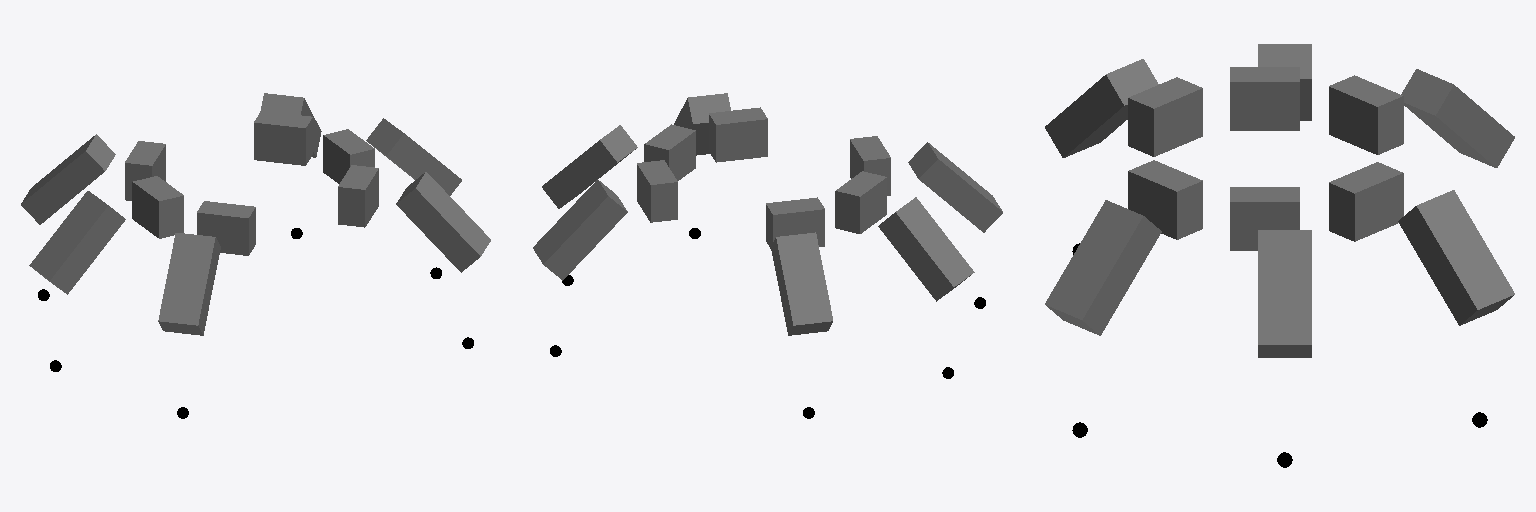
--- What the picture shows (computed from the rendered views, not written in the file) ---
3 views of the same robot in one strip: view 1: azimuth 30°, elevation 25°; view 2: azimuth 150°, elevation 25°; view 3: azimuth 270°, elevation 25° (orthographic).
Robot: hexapod — 38 links, 37 joints (18 revolute, 19 fixed); root link dummy; default pose: all joints at 0.
Visible links, largest first — view 1: servomotor_6, servomotor_12, servomotor_15, servomotor_13, servomotor_16, servomotor_17, servomotor_1, servomotor_14, servomotor_0, servomotor_2, servomotor_10, servomotor_3 (+5 smaller); view 2: servomotor_0, servomotor_12, servomotor_13, servomotor_10, servomotor_7, servomotor_11, servomotor_14, servomotor_6, servomotor_9, servomotor_8, servomotor_16, servomotor_3 (+5 smaller); view 3: servomotor_15, servomotor_9, servomotor_6, servomotor_12, servomotor_0, servomotor_1, servomotor_7, servomotor_8, servomotor_5, servomotor_2, servomotor_3, servomotor_10 (+5 smaller).
Boxes of the visible links, x1,y1,x2,y2 form: servomotor_6: (254, 111, 312, 165); servomotor_12: (132, 176, 183, 238); servomotor_15: (197, 201, 255, 255); servomotor_13: (56, 191, 125, 261); servomotor_16: (166, 233, 220, 295); servomotor_17: (158, 271, 210, 335); servomotor_1: (396, 172, 457, 242); servomotor_14: (29, 223, 98, 294); servomotor_0: (338, 165, 378, 227); servomotor_2: (425, 201, 490, 272); servomotor_10: (56, 134, 115, 201); servomotor_3: (323, 129, 374, 183); servomotor_0: (709, 107, 767, 162); servomotor_12: (835, 171, 886, 233); servomotor_13: (878, 197, 946, 267); servomotor_10: (771, 232, 825, 295); servomotor_7: (568, 179, 627, 250); servomotor_11: (781, 272, 832, 335); servomotor_14: (908, 230, 974, 301); servomotor_6: (637, 160, 677, 222); servomotor_9: (766, 197, 824, 248); servomotor_8: (533, 209, 597, 280); servomotor_16: (908, 142, 974, 209); servomotor_3: (644, 124, 695, 180); servomotor_15: (1128, 77, 1202, 156); servomotor_9: (1329, 75, 1403, 154); servomotor_6: (1329, 162, 1403, 241); servomotor_12: (1230, 67, 1299, 130); servomotor_0: (1128, 160, 1202, 239); servomotor_1: (1071, 200, 1161, 290); servomotor_7: (1398, 190, 1487, 279); servomotor_8: (1426, 238, 1514, 325); servomotor_5: (1258, 280, 1311, 357); servomotor_2: (1045, 259, 1126, 335); servomotor_3: (1230, 187, 1299, 250); servomotor_10: (1401, 69, 1488, 144).
Bounding box of the posed robot: 0.3985 × 0.3063 × 0.1529 m (x, y, z).
0 mesh visuals loaded from 3 distinct referenced files (none loaded); not drawn: 13 (reference not matched to a file when rendering).

robot.urdf — hexapod:
<?xml version="1.0" ?>

<robot name="hexapod">

  <link name="dummy">
  </link>
  <link name="base_link">
    <!-- We count all component within the box as the box
    (NanoPi, pcb, connectors included) -->
    <collision>
      <origin xyz="0 0 0.203" rpy="0 0 0" />
      <geometry>
        <!-- Putting here an octogone might be a nice optimization -->
        <mesh filename="package://hexapod_urdf/meshes/box.stl" scale="0.001 0.001 0.001" />
      </geometry>
    </collision>
    <visual>
      <origin xyz="0 0 0.203" rpy="0 0 0" />
      <geometry>
        <mesh filename="package://hexapod_urdf/meshes/box.stl" scale="0.001 0.001 0.001" />
      </geometry>
      <material name="Green">
        <color rgba="0.0 1.0 0.0 1.0"/>
      </material>
    </visual>
    <inertial>
      <origin xyz="0 0 0.203" rpy="0 0 0" />
      <mass value="0.667" />
      <!-- Let's consider the core of the robot homogeneous -->
      <inertia ixx="0.0011546458242062" ixy="-0.0000000000020962" ixz="-0.0000000000002841" iyy="0.0011546459440935" iyz="-0.0000000000000000" izz="0.0021742915988320" />
    </inertial>
  </link>
  <joint name="dummy_joint" type="fixed">
     <parent link="dummy"/>
     <child link="base_link"/>
  </joint>
  
  <!-- Leg 0 -->
  <joint name="fixed_box_servomotor_0" type="fixed">
    <origin xyz="0.06521292289492935 -0.06521292289492935 0.2041193" rpy="0 0 -0.78539" />
    <parent link="base_link" />
    <child link="servomotor_0" />
  </joint>
  <link name="servomotor_0">
    <collision>
      <origin xyz="0 -0.002 0" rpy="0 0 0" />
      <geometry>
        <box size="0.024 0.0451 0.0347" />
      </geometry>
    </collision>
    <visual>
      <origin xyz="0 -0.002 0" rpy="0 0 0" />
      <geometry>
        <box size="0.024 0.0451 0.0347" />
      </geometry>
      <material name="Grey">
        <color rgba="0.5 0.5 0.5 1.0"/>
      </material>
    </visual>
    <inertial>
      <origin xyz="0 0 0" rpy="0 0 0" />
      <mass value="0.047" />
      <!-- Let's consider the servomotor homogeneous -->
      <inertia ixx="0.000269" ixy="0" ixz="0" iyy="0.00014834" iyz="0" izz="0.0002175" />
    </inertial>
  </link>
  <joint name="servomotor_0_joint" type="revolute">
    <origin xyz="0 0.011 0" rpy="0 0 0" />
    <parent link="servomotor_0" />
    <child link="joint_0" />
    <axis xyz="0 0 1" />
    <dynamics damping="0" friction="0" /> <!-- TODO -->
    <!-- Herkulex : 361.4°/s i.e. 6.308rad/s, 12kg.cm i.e. 1.18Nm -->
    <limit effort="1.18" velocity="6.308" lower="-0.46" upper="0.46" /> <!-- TODO -->
  </joint>
  <link name="joint_0">
    <collision>
      <origin xyz="0.02432 0 0" rpy="0 0 0" />
      <geometry>
        <box size="0.025 0.040 0.040" />
      </geometry>
    </collision>
    <visual>
      <origin xyz="0.02432 0 0" rpy="0 0 0" />
      <geometry>
        <mesh filename="package://hexapod_urdf/meshes/joint.stl" scale="0.001 0.001 0.001" />
      </geometry>
      <material name="Blue">
        <color rgba="0.0 0.0 1.0 1.0"/>
      </material>
    </visual>
    <inertial>
      <origin xyz="0.02432 0 0" rpy="0 0 0" />
      <mass value="0.011" />
      <inertia ixx="0.0000036847327983" ixy="0.0000000282538243" ixz="0.0000000324768551" iyy="0.0000040337912502" iyz="-0.0000000006925946" izz="0.0000040276641002" />
    </inertial>
  </link>
  <joint name="servomotor_1_joint" type="revolute">
    <origin xyz="0.049 0 0" rpy="1.5707963267948966 -0.7853981633974483 0" />
    <parent link="joint_0" />
    <child link="servomotor_1" />
    <axis xyz="0 0 1" />
    <dynamics damping="0" friction="0" /> <!-- TODO -->
    <!-- Herkulex : 361.4°/s i.e. 6.308rad/s, 12kg.cm i.e. 1.18Nm -->
    <limit effort="1.18" velocity="6.308" lower="-1.57" upper="1.57" /> <!-- TODO -->
  </joint>
  <link name="servomotor_1">
    <collision>
      <origin xyz="0 -0.0127 0" rpy="0 0 0" />
      <geometry>
        <box size="0.024 0.0451 0.0347" />
      </geometry>
    </collision>
    <visual>
      <origin xyz="0 -0.0127 0" rpy="0 0 0" />
      <geometry>
        <box size="0.024 0.0451 0.0347" />
      </geometry>
      <material name="Grey">
        <color rgba="0.5 0.5 0.5 1.0"/>
      </material>
    </visual>
    <inertial>
      <origin xyz="0 -0.0107 0" rpy="0 0 0" />
      <mass value="0.047" />
      <!-- Let's consider the servomotor homogeneous -->
      <inertia ixx="0.000269" ixy="0" ixz="0" iyy="0.00014834" iyz="0" izz="0.0002175" />
    </inertial>
  </link>
  <joint name="fixed_servomotor_1_servomotor_2" type="fixed">
    <origin xyz="0 -0.0495 0" rpy="0 0 3.141592653589793" />
    <parent link="servomotor_1" />
    <child link="servomotor_2" />
  </joint>
  <link name="servomotor_2">
    <collision>
      <origin xyz="0 -0.002 0" rpy="0 0 0" />
      <geometry>
        <box size="0.024 0.0451 0.0347" />
      </geometry>
    </collision>
    <visual>
      <origin xyz="0 -0.002 0" rpy="0 0 0" />
      <geometry>
        <box size="0.024 0.0451 0.0347" />
      </geometry>
      <material name="Grey">
        <color rgba="0.5 0.5 0.5 1.0"/>
      </material>
    </visual>
    <inertial>
      <origin xyz="0 0 0" rpy="0 0 0" />
      <mass value="0.047" />
      <!-- Let's consider the servomotor homogeneous -->
      <inertia ixx="0.000269" ixy="0" ixz="0" iyy="0.00014834" iyz="0" izz="0.0002175" />
    </inertial>
  </link>
  <joint name="servomotor_2_joint" type="revolute">
    <origin xyz="0 0.0107 0" rpy="0 0 -0.7853981633974483" />
    <parent link="servomotor_2" />
    <child link="foot_0" />
    <axis xyz="0 0 1" />
    <dynamics damping="0" friction="0" /> <!-- TODO -->
    <!-- Herkulex : 361.4°/s i.e. 6.308rad/s, 12kg.cm i.e. 1.18Nm -->
    <limit effort="1.18" velocity="6.308" lower="-1.57" upper="1.57" /> <!-- TODO -->
  </joint>
  <link name="foot_0">
    <collision>
      <origin xyz="0 0.0406 0" rpy="1.5707963267948966 0 0" />
      <geometry>
        <box size="0.024 0.040 0.08" />
      </geometry>
    </collision>
    <visual>
      <origin xyz="0 0.031 0" rpy="1.5707963267948966 0 0" />
      <geometry>
        <mesh filename="package://hexapod_urdf/meshes/foot.stl" scale="0.001 0.001 0.001" />
      </geometry>
      <material name="Blue">
        <color rgba="0.0 0.0 1.0 1.0"/>
      </material>
    </visual>
    <inertial>
      <origin xyz="0 0.031 0" rpy="1.5707963267948966 0 0" />
      <mass value="0.0105" />
      <inertia ixx="0.0000056249300217" ixy="-0.0000000007514029" ixz="0.0000000005912555" iyy="0.0000045683501941" iyz="0.0000000202704742" izz="0.0000017085021793" />
    </inertial>
  </link>
  <joint name="fixed_foot_0_endcap_0" type="fixed">
    <origin xyz="0 0.088 0" rpy="0 0 0" />
    <parent link="foot_0" />
    <child link="endcap_0" />
  </joint>
  <link name="endcap_0">
    <collision>
      <origin xyz="0 0 0" rpy="0 0 0" />
      <geometry>
        <sphere radius="0.005" />
      </geometry>
    </collision>
    <visual>
      <origin xyz="0 0 0" rpy="0 0 0" />
      <geometry>
        <sphere radius="0.005" />
      </geometry>
      <material name="BlackRubber">
        <color rgba="0.0 0.0 0.0 1.0"/>
      </material>
    </visual>
    <inertial>
      <origin xyz="0 0 0" rpy="0 0 0" />
      <mass value="0.0005" />
      <!-- endcap has a negligeable inertia -->
      <inertia ixx="0.0" ixy="0.0" ixz="0.0" iyy="0.0" iyz="0.0" izz="0.0" />
    </inertial>
    <contact>
      <friction_anchor />
      <lateral_friction value="0.7" />
      <rolling_friction value="0.7" />
      <spinning_friction value="0.1" />
      <stiffness value="10000" />
      <damping value="1000" />
    </contact>
  </link>
  
  <!-- Leg 1 -->
  <joint name="fixed_box_servomotor_3" type="fixed">
    <origin xyz="0.092225 0.0 0.2041193" rpy="0 0 0.0" />
    <parent link="base_link" />
    <child link="servomotor_3" />
  </joint>
  <link name="servomotor_3">
    <collision>
      <origin xyz="0 -0.002 0" rpy="0 0 0" />
      <geometry>
        <box size="0.024 0.0451 0.0347" />
      </geometry>
    </collision>
    <visual>
      <origin xyz="0 -0.002 0" rpy="0 0 0" />
      <geometry>
        <box size="0.024 0.0451 0.0347" />
      </geometry>
      <material name="Grey">
        <color rgba="0.5 0.5 0.5 1.0"/>
      </material>
    </visual>
    <inertial>
      <origin xyz="0 0 0" rpy="0 0 0" />
      <mass value="0.047" />
      <!-- Let's consider the servomotor homogeneous -->
      <inertia ixx="0.000269" ixy="0" ixz="0" iyy="0.00014834" iyz="0" izz="0.0002175" />
    </inertial>
  </link>
  <joint name="servomotor_3_joint" type="revolute">
    <origin xyz="0 0.011 0" rpy="0 0 0" />
    <parent link="servomotor_3" />
    <child link="joint_1" />
    <axis xyz="0 0 1" />
    <dynamics damping="0" friction="0" /> <!-- TODO -->
    <!-- Herkulex : 361.4°/s i.e. 6.308rad/s, 12kg.cm i.e. 1.18Nm -->
    <limit effort="1.18" velocity="6.308" lower="-0.46" upper="0.46" /> <!-- TODO -->
  </joint>
  <link name="joint_1">
    <collision>
      <origin xyz="0.02432 0 0" rpy="0 0 0" />
      <geometry>
        <box size="0.025 0.040 0.040" />
      </geometry>
    </collision>
    <visual>
      <origin xyz="0.02432 0 0" rpy="0 0 0" />
      <geometry>
        <mesh filename="package://hexapod_urdf/meshes/joint.stl" scale="0.001 0.001 0.001" />
      </geometry>
      <material name="Blue">
        <color rgba="0.0 0.0 1.0 1.0"/>
      </material>
    </visual>
    <inertial>
      <origin xyz="0.02432 0 0" rpy="0 0 0" />
      <mass value="0.011" />
      <inertia ixx="0.0000036847327983" ixy="0.0000000282538243" ixz="0.0000000324768551" iyy="0.0000040337912502" iyz="-0.0000000006925946" izz="0.0000040276641002" />
    </inertial>
  </link>
  <joint name="servomotor_4_joint" type="revolute">
    <origin xyz="0.049 0 0" rpy="1.5707963267948966 -0.7853981633974483 0" />
    <parent link="joint_1" />
    <child link="servomotor_4" />
    <axis xyz="0 0 1" />
    <dynamics damping="0" friction="0" /> <!-- TODO -->
    <!-- Herkulex : 361.4°/s i.e. 6.308rad/s, 12kg.cm i.e. 1.18Nm -->
    <limit effort="1.18" velocity="6.308" lower="-1.57" upper="1.57" /> <!-- TODO -->
  </joint>
  <link name="servomotor_4">
    <collision>
      <origin xyz="0 -0.0127 0" rpy="0 0 0" />
      <geometry>
        <box size="0.024 0.0451 0.0347" />
      </geometry>
    </collision>
    <visual>
      <origin xyz="0 -0.0127 0" rpy="0 0 0" />
      <geometry>
        <box size="0.024 0.0451 0.0347" />
      </geometry>
      <material name="Grey">
        <color rgba="0.5 0.5 0.5 1.0"/>
      </material>
    </visual>
    <inertial>
      <origin xyz="0 -0.0107 0" rpy="0 0 0" />
      <mass value="0.047" />
      <!-- Let's consider the servomotor homogeneous -->
      <inertia ixx="0.000269" ixy="0" ixz="0" iyy="0.00014834" iyz="0" izz="0.0002175" />
    </inertial>
  </link>
  <joint name="fixed_servomotor_4_servomotor_5" type="fixed">
    <origin xyz="0 -0.0495 0" rpy="0 0 3.141592653589793" />
    <parent link="servomotor_4" />
    <child link="servomotor_5" />
  </joint>
  <link name="servomotor_5">
    <collision>
      <origin xyz="0 -0.002 0" rpy="0 0 0" />
      <geometry>
        <box size="0.024 0.0451 0.0347" />
      </geometry>
    </collision>
    <visual>
      <origin xyz="0 -0.002 0" rpy="0 0 0" />
      <geometry>
        <box size="0.024 0.0451 0.0347" />
      </geometry>
      <material name="Grey">
        <color rgba="0.5 0.5 0.5 1.0"/>
      </material>
    </visual>
    <inertial>
      <origin xyz="0 0 0" rpy="0 0 0" />
      <mass value="0.047" />
      <!-- Let's consider the servomotor homogeneous -->
      <inertia ixx="0.000269" ixy="0" ixz="0" iyy="0.00014834" iyz="0" izz="0.0002175" />
    </inertial>
  </link>
  <joint name="servomotor_5_joint" type="revolute">
    <origin xyz="0 0.0107 0" rpy="0 0 -0.7853981633974483" />
    <parent link="servomotor_5" />
    <child link="foot_1" />
    <axis xyz="0 0 1" />
    <dynamics damping="0" friction="0" /> <!-- TODO -->
    <!-- Herkulex : 361.4°/s i.e. 6.308rad/s, 12kg.cm i.e. 1.18Nm -->
    <limit effort="1.18" velocity="6.308" lower="-1.57" upper="1.57" /> <!-- TODO -->
  </joint>
  <link name="foot_1">
    <collision>
      <origin xyz="0 0.0406 0" rpy="1.5707963267948966 0 0" />
      <geometry>
        <box size="0.024 0.040 0.08" />
      </geometry>
    </collision>
    <visual>
      <origin xyz="0 0.031 0" rpy="1.5707963267948966 0 0" />
      <geometry>
        <mesh filename="package://hexapod_urdf/meshes/foot.stl" scale="0.001 0.001 0.001" />
      </geometry>
      <material name="Blue">
        <color rgba="0.0 0.0 1.0 1.0"/>
      </material>
    </visual>
    <inertial>
      <origin xyz="0 0.031 0" rpy="1.5707963267948966 0 0" />
      <mass value="0.0105" />
      <inertia ixx="0.0000056249300217" ixy="-0.0000000007514029" ixz="0.0000000005912555" iyy="0.0000045683501941" iyz="0.0000000202704742" izz="0.0000017085021793" />
    </inertial>
  </link>
  <joint name="fixed_foot_1_endcap_1" type="fixed">
    <origin xyz="0 0.088 0" rpy="0 0 0" />
    <parent link="foot_1" />
    <child link="endcap_1" />
  </joint>
  <link name="endcap_1">
    <collision>
      <origin xyz="0 0 0" rpy="0 0 0" />
      <geometry>
        <sphere radius="0.005" />
      </geometry>
    </collision>
    <visual>
      <origin xyz="0 0 0" rpy="0 0 0" />
      <geometry>
        <sphere radius="0.005" />
      </geometry>
      <material name="BlackRubber">
        <color rgba="0.0 0.0 0.0 1.0"/>
      </material>
    </visual>
    <inertial>
      <origin xyz="0 0 0" rpy="0 0 0" />
      <mass value="0.0005" />
      <!-- endcap has a negligeable inertia -->
      <inertia ixx="0.0" ixy="0.0" ixz="0.0" iyy="0.0" iyz="0.0" izz="0.0" />
    </inertial>
    <contact>
      <friction_anchor />
      <lateral_friction value="0.7" />
      <rolling_friction value="0.7" />
      <spinning_friction value="0.1" />
      <stiffness value="10000" />
      <damping value="1000" />
    </contact>
  </link>
  
  <!-- Leg 2 -->
  <joint name="fixed_box_servomotor_6" type="fixed">
    <origin xyz="0.06521292289492935 0.06521292289492935 0.2041193" rpy="0 0 0.78539" />
    <parent link="base_link" />
    <child link="servomotor_6" />
  </joint>
  <link name="servomotor_6">
    <collision>
      <origin xyz="0 -0.002 0" rpy="0 0 0" />
      <geometry>
        <box size="0.024 0.0451 0.0347" />
      </geometry>
    </collision>
    <visual>
      <origin xyz="0 -0.002 0" rpy="0 0 0" />
      <geometry>
        <box size="0.024 0.0451 0.0347" />
      </geometry>
      <material name="Grey">
        <color rgba="0.5 0.5 0.5 1.0"/>
      </material>
    </visual>
    <inertial>
      <origin xyz="0 0 0" rpy="0 0 0" />
      <mass value="0.047" />
      <!-- Let's consider the servomotor homogeneous -->
      <inertia ixx="0.000269" ixy="0" ixz="0" iyy="0.00014834" iyz="0" izz="0.0002175" />
    </inertial>
  </link>
  <joint name="servomotor_6_joint" type="revolute">
    <origin xyz="0 0.011 0" rpy="0 0 0" />
    <parent link="servomotor_6" />
    <child link="joint_2" />
    <axis xyz="0 0 1" />
    <dynamics damping="0" friction="0" /> <!-- TODO -->
    <!-- Herkulex : 361.4°/s i.e. 6.308rad/s, 12kg.cm i.e. 1.18Nm -->
    <limit effort="1.18" velocity="6.308" lower="-0.46" upper="0.46" /> <!-- TODO -->
  </joint>
  <link name="joint_2">
    <collision>
      <origin xyz="0.02432 0 0" rpy="0 0 0" />
      <geometry>
        <box size="0.025 0.040 0.040" />
      </geometry>
    </collision>
    <visual>
      <origin xyz="0.02432 0 0" rpy="0 0 0" />
      <geometry>
        <mesh filename="package://hexapod_urdf/meshes/joint.stl" scale="0.001 0.001 0.001" />
      </geometry>
      <material name="Blue">
        <color rgba="0.0 0.0 1.0 1.0"/>
      </material>
    </visual>
    <inertial>
      <origin xyz="0.02432 0 0" rpy="0 0 0" />
      <mass value="0.011" />
      <inertia ixx="0.0000036847327983" ixy="0.0000000282538243" ixz="0.0000000324768551" iyy="0.0000040337912502" iyz="-0.0000000006925946" izz="0.0000040276641002" />
    </inertial>
  </link>
  <joint name="servomotor_7_joint" type="revolute">
    <origin xyz="0.049 0 0" rpy="1.5707963267948966 -0.7853981633974483 0" />
    <parent link="joint_2" />
    <child link="servomotor_7" />
    <axis xyz="0 0 1" />
    <dynamics damping="0" friction="0" /> <!-- TODO -->
    <!-- Herkulex : 361.4°/s i.e. 6.308rad/s, 12kg.cm i.e. 1.18Nm -->
    <limit effort="1.18" velocity="6.308" lower="-1.57" upper="1.57" /> <!-- TODO -->
  </joint>
  <link name="servomotor_7">
    <collision>
      <origin xyz="0 -0.0127 0" rpy="0 0 0" />
      <geometry>
        <box size="0.024 0.0451 0.0347" />
      </geometry>
    </collision>
    <visual>
      <origin xyz="0 -0.0127 0" rpy="0 0 0" />
      <geometry>
        <box size="0.024 0.0451 0.0347" />
      </geometry>
      <material name="Grey">
        <color rgba="0.5 0.5 0.5 1.0"/>
      </material>
    </visual>
    <inertial>
      <origin xyz="0 -0.0107 0" rpy="0 0 0" />
      <mass value="0.047" />
      <!-- Let's consider the servomotor homogeneous -->
      <inertia ixx="0.000269" ixy="0" ixz="0" iyy="0.00014834" iyz="0" izz="0.0002175" />
    </inertial>
  </link>
  <joint name="fixed_servomotor_7_servomotor_8" type="fixed">
    <origin xyz="0 -0.0495 0" rpy="0 0 3.141592653589793" />
    <parent link="servomotor_7" />
    <child link="servomotor_8" />
  </joint>
  <link name="servomotor_8">
    <collision>
      <origin xyz="0 -0.002 0" rpy="0 0 0" />
      <geometry>
        <box size="0.024 0.0451 0.0347" />
      </geometry>
    </collision>
    <visual>
      <origin xyz="0 -0.002 0" rpy="0 0 0" />
      <geometry>
        <box size="0.024 0.0451 0.0347" />
      </geometry>
      <material name="Grey">
        <color rgba="0.5 0.5 0.5 1.0"/>
      </material>
    </visual>
    <inertial>
      <origin xyz="0 0 0" rpy="0 0 0" />
      <mass value="0.047" />
      <!-- Let's consider the servomotor homogeneous -->
      <inertia ixx="0.000269" ixy="0" ixz="0" iyy="0.00014834" iyz="0" izz="0.0002175" />
    </inertial>
  </link>
  <joint name="servomotor_8_joint" type="revolute">
    <origin xyz="0 0.0107 0" rpy="0 0 -0.7853981633974483" />
    <parent link="servomotor_8" />
    <child link="foot_2" />
    <axis xyz="0 0 1" />
    <dynamics damping="0" friction="0" /> <!-- TODO -->
    <!-- Herkulex : 361.4°/s i.e. 6.308rad/s, 12kg.cm i.e. 1.18Nm -->
    <limit effort="1.18" velocity="6.308" lower="-1.57" upper="1.57" /> <!-- TODO -->
  </joint>
  <link name="foot_2">
    <collision>
      <origin xyz="0 0.0406 0" rpy="1.5707963267948966 0 0" />
      <geometry>
        <box size="0.024 0.040 0.08" />
      </geometry>
    </collision>
    <visual>
      <origin xyz="0 0.031 0" rpy="1.5707963267948966 0 0" />
      <geometry>
        <mesh filename="package://hexapod_urdf/meshes/foot.stl" scale="0.001 0.001 0.001" />
      </geometry>
      <material name="Blue">
        <color rgba="0.0 0.0 1.0 1.0"/>
      </material>
    </visual>
    <inertial>
      <origin xyz="0 0.031 0" rpy="1.5707963267948966 0 0" />
      <mass value="0.0105" />
      <inertia ixx="0.0000056249300217" ixy="-0.0000000007514029" ixz="0.0000000005912555" iyy="0.0000045683501941" iyz="0.0000000202704742" izz="0.0000017085021793" />
    </inertial>
  </link>
  <joint name="fixed_foot_2_endcap_2" type="fixed">
    <origin xyz="0 0.088 0" rpy="0 0 0" />
    <parent link="foot_2" />
    <child link="endcap_2" />
  </joint>
  <link name="endcap_2">
    <collision>
      <origin xyz="0 0 0" rpy="0 0 0" />
      <geometry>
        <sphere radius="0.005" />
      </geometry>
    </collision>
    <visual>
      <origin xyz="0 0 0" rpy="0 0 0" />
      <geometry>
        <sphere radius="0.005" />
      </geometry>
      <material name="BlackRubber">
        <color rgba="0.0 0.0 0.0 1.0"/>
      </material>
    </visual>
    <inertial>
      <origin xyz="0 0 0" rpy="0 0 0" />
      <mass value="0.0005" />
      <!-- endcap has a negligeable inertia -->
      <inertia ixx="0.0" ixy="0.0" ixz="0.0" iyy="0.0" iyz="0.0" izz="0.0" />
    </inertial>
    <contact>
      <friction_anchor />
      <lateral_friction value="0.7" />
      <rolling_friction value="0.7" />
      <spinning_friction value="0.1" />
      <stiffness value="10000" />
      <damping value="1000" />
    </contact>
  </link>
  

  
  <!-- Leg 3 -->
  <joint name="fixed_box_servomotor_9" type="fixed">
    <origin xyz="-0.06521292289492935 0.06521292289492935 0.2041193" rpy="0 0 -0.78539" />
    <parent link="base_link" />
    <child link="servomotor_9" />
  </joint>
  <link name="servomotor_9">
    <collision>
      <origin xyz="0 -0.002 0" rpy="0 0 0" />
      <geometry>
        <box size="0.024 0.0451 0.0347" />
      </geometry>
    </collision>
    <visual>
      <origin xyz="0 -0.002 0" rpy="0 0 0" />
      <geometry>
        <box size="0.024 0.0451 0.0347" />
      </geometry>
      <material name="Grey">
        <color rgba="0.5 0.5 0.5 1.0"/>
      </material>
    </visual>
    <inertial>
      <origin xyz="0 0 0" rpy="0 0 0" />
      <mass value="0.047" />
      <!-- Let's consider the servomotor homogeneous -->
      <inertia ixx="0.000269" ixy="0" ixz="0" iyy="0.00014834" iyz="0" izz="0.0002175" />
    </inertial>
  </link>
  <joint name="servomotor_9_joint" type="revolute">
    <origin xyz="0 0.011 0" rpy="0 0 3.141592653589793" />
    <parent link="servomotor_9" />
    <child link="joint_3" />
    <axis xyz="0 0 1" />
    <dynamics damping="0" friction="0" /> <!-- TODO -->
    <!-- Herkulex : 361.4°/s i.e. 6.308rad/s, 12kg.cm i.e. 1.18Nm -->
    <limit effort="1.18" velocity="6.308" lower="-0.46" upper="0.46" /> <!-- TODO -->
  </joint>
  <link name="joint_3">
    <collision>
      <origin xyz="0.02432 0 0" rpy="0 0 0" />
      <geometry>
        <box size="0.025 0.040 0.040" />
      </geometry>
    </collision>
    <visual>
      <origin xyz="0.02432 0 0" rpy="0 0 0" />
      <geometry>
        <mesh filename="package://hexapod_urdf/meshes/joint.stl" scale="0.001 0.001 0.001" />
      </geometry>
      <material name="Blue">
        <color rgba="0.0 0.0 1.0 1.0"/>
      </material>
    </visual>
    <inertial>
      <origin xyz="0.02432 0 0" rpy="0 0 0" />
      <mass value="0.011" />
      <inertia ixx="0.0000036847327983" ixy="0.0000000282538243" ixz="0.0000000324768551" iyy="0.0000040337912502" iyz="-0.0000000006925946" izz="0.0000040276641002" />
    </inertial>
  </link>
  <joint name="servomotor_10_joint" type="revolute">
    <origin xyz="0.049 0 0" rpy="1.5707963267948966 -0.7853981633974483 0" />
    <parent link="joint_3" />
    <child link="servomotor_10" />
    <axis xyz="0 0 1" />
    <dynamics damping="0" friction="0" /> <!-- TODO -->
    <!-- Herkulex : 361.4°/s i.e. 6.308rad/s, 12kg.cm i.e. 1.18Nm -->
    <limit effort="1.18" velocity="6.308" lower="-1.57" upper="1.57" /> <!-- TODO -->
  </joint>
  <link name="servomotor_10">
    <collision>
      <origin xyz="0 -0.0127 0" rpy="0 0 0" />
      <geometry>
        <box size="0.024 0.0451 0.0347" />
      </geometry>
    </collision>
    <visual>
      <origin xyz="0 -0.0127 0" rpy="0 0 0" />
      <geometry>
        <box size="0.024 0.0451 0.0347" />
      </geometry>
      <material name="Grey">
        <color rgba="0.5 0.5 0.5 1.0"/>
      </material>
    </visual>
    <inertial>
      <origin xyz="0 -0.0107 0" rpy="0 0 0" />
      <mass value="0.047" />
      <!-- Let's consider the servomotor homogeneous -->
      <inertia ixx="0.000269" ixy="0" ixz="0" iyy="0.00014834" iyz="0" izz="0.0002175" />
    </inertial>
  </link>
  <joint name="fixed_servomotor_10_servomotor_11" type="fixed">
    <origin xyz="0 -0.0495 0" rpy="0 0 3.141592653589793" />
    <parent link="servomotor_10" />
    <child link="servomotor_11" />
  </joint>
  <link name="servomotor_11">
    <collision>
      <origin xyz="0 -0.002 0" rpy="0 0 0" />
      <geometry>
        <box size="0.024 0.0451 0.0347" />
      </geometry>
    </collision>
    <visual>
      <origin xyz="0 -0.002 0" rpy="0 0 0" />
      <geometry>
        <box size="0.024 0.0451 0.0347" />
      </geometry>
      <material name="Grey">
        <color rgba="0.5 0.5 0.5 1.0"/>
      </material>
    </visual>
    <inertial>
      <origin xyz="0 0 0" rpy="0 0 0" />
      <mass value="0.047" />
      <!-- Let's consider the servomotor homogeneous -->
      <inertia ixx="0.000269" ixy="0" ixz="0" iyy="0.00014834" iyz="0" izz="0.0002175" />
    </inertial>
  </link>
  <joint name="servomotor_11_joint" type="revolute">
    <origin xyz="0 0.0107 0" rpy="0 0 -0.7853981633974483" />
    <parent link="servomotor_11" />
    <child link="foot_3" />
    <axis xyz="0 0 1" />
    <dynamics damping="0" friction="0" /> <!-- TODO -->
    <!-- Herkulex : 361.4°/s i.e. 6.308rad/s, 12kg.cm i.e. 1.18Nm -->
    <limit effort="1.18" velocity="6.308" lower="-1.57" upper="1.57" /> <!-- TODO -->
  </joint>
  <link name="foot_3">
    <collision>
      <origin xyz="0 0.0406 0" rpy="1.5707963267948966 0 0" />
      <geometry>
        <box size="0.024 0.040 0.08" />
      </geometry>
    </collision>
    <visual>
      <origin xyz="0 0.031 0" rpy="1.5707963267948966 0 0" />
      <geometry>
        <mesh filename="package://hexapod_urdf/meshes/foot.stl" scale="0.001 0.001 0.001" />
      </geometry>
      <material name="Blue">
        <color rgba="0.0 0.0 1.0 1.0"/>
      </material>
    </visual>
    <inertial>
      <origin xyz="0 0.031 0" rpy="1.5707963267948966 0 0" />
      <mass value="0.0105" />
      <inertia ixx="0.0000056249300217" ixy="-0.0000000007514029" ixz="0.0000000005912555" iyy="0.0000045683501941" iyz="0.0000000202704742" izz="0.0000017085021793" />
    </inertial>
  </link>
  <joint name="fixed_foot_3_endcap_3" type="fixed">
    <origin xyz="0 0.088 0" rpy="0 0 0" />
    <parent link="foot_3" />
    <child link="endcap_3" />
  </joint>
  <link name="endcap_3">
    <collision>
      <origin xyz="0 0 0" rpy="0 0 0" />
      <geometry>
        <sphere radius="0.005" />
      </geometry>
    </collision>
    <visual>
      <origin xyz="0 0 0" rpy="0 0 0" />
      <geometry>
        <sphere radius="0.005" />
      </geometry>
      <material name="BlackRubber">
        <color rgba="0.0 0.0 0.0 1.0"/>
      </material>
    </visual>
    <inertial>
      <origin xyz="0 0 0" rpy="0 0 0" />
      <mass value="0.0005" />
      <!-- endcap has a negligeable inertia -->
      <inertia ixx="0.0" ixy="0.0" ixz="0.0" iyy="0.0" iyz="0.0" izz="0.0" />
    </inertial>
    <contact>
      <friction_anchor />
      <lateral_friction value="0.7" />
      <rolling_friction value="0.7" />
      <spinning_friction value="0.1" />
      <stiffness value="10000" />
      <damping value="1000" />
    </contact>
  </link>
  
  <!-- Leg 4 -->
  <joint name="fixed_box_servomotor_12" type="fixed">
    <origin xyz="-0.092225 -0.0 0.2041193" rpy="0 0 0.0" />
    <parent link="base_link" />
    <child link="servomotor_12" />
  </joint>
  <link name="servomotor_12">
    <collision>
      <origin xyz="0 -0.002 0" rpy="0 0 0" />
      <geometry>
        <box size="0.024 0.0451 0.0347" />
      </geometry>
    </collision>
    <visual>
      <origin xyz="0 -0.002 0" rpy="0 0 0" />
      <geometry>
        <box size="0.024 0.0451 0.0347" />
      </geometry>
      <material name="Grey">
        <color rgba="0.5 0.5 0.5 1.0"/>
      </material>
    </visual>
    <inertial>
      <origin xyz="0 0 0" rpy="0 0 0" />
      <mass value="0.047" />
      <!-- Let's consider the servomotor homogeneous -->
      <inertia ixx="0.000269" ixy="0" ixz="0" iyy="0.00014834" iyz="0" izz="0.0002175" />
    </inertial>
  </link>
  <joint name="servomotor_12_joint" type="revolute">
    <origin xyz="0 0.011 0" rpy="0 0 3.141592653589793" />
    <parent link="servomotor_12" />
    <child link="joint_4" />
    <axis xyz="0 0 1" />
    <dynamics damping="0" friction="0" /> <!-- TODO -->
    <!-- Herkulex : 361.4°/s i.e. 6.308rad/s, 12kg.cm i.e. 1.18Nm -->
    <limit effort="1.18" velocity="6.308" lower="-0.46" upper="0.46" /> <!-- TODO -->
  </joint>
  <link name="joint_4">
    <collision>
      <origin xyz="0.02432 0 0" rpy="0 0 0" />
      <geometry>
        <box size="0.025 0.040 0.040" />
      </geometry>
    </collision>
    <visual>
      <origin xyz="0.02432 0 0" rpy="0 0 0" />
      <geometry>
        <mesh filename="package://hexapod_urdf/meshes/joint.stl" scale="0.001 0.001 0.001" />
      </geometry>
      <material name="Blue">
        <color rgba="0.0 0.0 1.0 1.0"/>
      </material>
    </visual>
    <inertial>
      <origin xyz="0.02432 0 0" rpy="0 0 0" />
      <mass value="0.011" />
      <inertia ixx="0.0000036847327983" ixy="0.0000000282538243" ixz="0.0000000324768551" iyy="0.0000040337912502" iyz="-0.0000000006925946" izz="0.0000040276641002" />
    </inertial>
  </link>
  <joint name="servomotor_13_joint" type="revolute">
    <origin xyz="0.049 0 0" rpy="1.5707963267948966 -0.7853981633974483 0" />
    <parent link="joint_4" />
    <child link="servomotor_13" />
    <axis xyz="0 0 1" />
    <dynamics damping="0" friction="0" /> <!-- TODO -->
    <!-- Herkulex : 361.4°/s i.e. 6.308rad/s, 12kg.cm i.e. 1.18Nm -->
    <limit effort="1.18" velocity="6.308" lower="-1.57" upper="1.57" /> <!-- TODO -->
  </joint>
  <link name="servomotor_13">
    <collision>
      <origin xyz="0 -0.0127 0" rpy="0 0 0" />
      <geometry>
        <box size="0.024 0.0451 0.0347" />
      </geometry>
    </collision>
    <visual>
      <origin xyz="0 -0.0127 0" rpy="0 0 0" />
      <geometry>
        <box size="0.024 0.0451 0.0347" />
      </geometry>
      <material name="Grey">
        <color rgba="0.5 0.5 0.5 1.0"/>
      </material>
    </visual>
    <inertial>
      <origin xyz="0 -0.0107 0" rpy="0 0 0" />
      <mass value="0.047" />
      <!-- Let's consider the servomotor homogeneous -->
      <inertia ixx="0.000269" ixy="0" ixz="0" iyy="0.00014834" iyz="0" izz="0.0002175" />
    </inertial>
  </link>
  <joint name="fixed_servomotor_13_servomotor_14" type="fixed">
    <origin xyz="0 -0.0495 0" rpy="0 0 3.141592653589793" />
    <parent link="servomotor_13" />
    <child link="servomotor_14" />
  </joint>
  <link name="servomotor_14">
    <collision>
      <origin xyz="0 -0.002 0" rpy="0 0 0" />
      <geometry>
        <box size="0.024 0.0451 0.0347" />
      </geometry>
    </collision>
    <visual>
      <origin xyz="0 -0.002 0" rpy="0 0 0" />
      <geometry>
        <box size="0.024 0.0451 0.0347" />
      </geometry>
      <material name="Grey">
        <color rgba="0.5 0.5 0.5 1.0"/>
      </material>
    </visual>
    <inertial>
      <origin xyz="0 0 0" rpy="0 0 0" />
      <mass value="0.047" />
      <!-- Let's consider the servomotor homogeneous -->
      <inertia ixx="0.000269" ixy="0" ixz="0" iyy="0.00014834" iyz="0" izz="0.0002175" />
    </inertial>
  </link>
  <joint name="servomotor_14_joint" type="revolute">
    <origin xyz="0 0.0107 0" rpy="0 0 -0.7853981633974483" />
    <parent link="servomotor_14" />
    <child link="foot_4" />
    <axis xyz="0 0 1" />
    <dynamics damping="0" friction="0" /> <!-- TODO -->
    <!-- Herkulex : 361.4°/s i.e. 6.308rad/s, 12kg.cm i.e. 1.18Nm -->
    <limit effort="1.18" velocity="6.308" lower="-1.57" upper="1.57" /> <!-- TODO -->
  </joint>
  <link name="foot_4">
    <collision>
      <origin xyz="0 0.0406 0" rpy="1.5707963267948966 0 0" />
      <geometry>
        <box size="0.024 0.040 0.08" />
      </geometry>
    </collision>
    <visual>
      <origin xyz="0 0.031 0" rpy="1.5707963267948966 0 0" />
      <geometry>
        <mesh filename="package://hexapod_urdf/meshes/foot.stl" scale="0.001 0.001 0.001" />
      </geometry>
      <material name="Blue">
        <color rgba="0.0 0.0 1.0 1.0"/>
      </material>
    </visual>
    <inertial>
      <origin xyz="0 0.031 0" rpy="1.5707963267948966 0 0" />
      <mass value="0.0105" />
      <inertia ixx="0.0000056249300217" ixy="-0.0000000007514029" ixz="0.0000000005912555" iyy="0.0000045683501941" iyz="0.0000000202704742" izz="0.0000017085021793" />
    </inertial>
  </link>
  <joint name="fixed_foot_4_endcap_4" type="fixed">
    <origin xyz="0 0.088 0" rpy="0 0 0" />
    <parent link="foot_4" />
    <child link="endcap_4" />
  </joint>
  <link name="endcap_4">
    <collision>
      <origin xyz="0 0 0" rpy="0 0 0" />
      <geometry>
        <sphere radius="0.005" />
      </geometry>
    </collision>
    <visual>
      <origin xyz="0 0 0" rpy="0 0 0" />
      <geometry>
        <sphere radius="0.005" />
      </geometry>
      <material name="BlackRubber">
        <color rgba="0.0 0.0 0.0 1.0"/>
      </material>
    </visual>
    <inertial>
      <origin xyz="0 0 0" rpy="0 0 0" />
      <mass value="0.0005" />
      <!-- endcap has a negligeable inertia -->
      <inertia ixx="0.0" ixy="0.0" ixz="0.0" iyy="0.0" iyz="0.0" izz="0.0" />
    </inertial>
    <contact>
      <friction_anchor />
      <lateral_friction value="0.7" />
      <rolling_friction value="0.7" />
      <spinning_friction value="0.1" />
      <stiffness value="10000" />
      <damping value="1000" />
    </contact>
  </link>
  
  <!-- Leg 5 -->
  <joint name="fixed_box_servomotor_15" type="fixed">
    <origin xyz="-0.06521292289492935 -0.06521292289492935 0.2041193" rpy="0 0 0.78539" />
    <parent link="base_link" />
    <child link="servomotor_15" />
  </joint>
  <link name="servomotor_15">
    <collision>
      <origin xyz="0 -0.002 0" rpy="0 0 0" />
      <geometry>
        <box size="0.024 0.0451 0.0347" />
      </geometry>
    </collision>
    <visual>
      <origin xyz="0 -0.002 0" rpy="0 0 0" />
      <geometry>
        <box size="0.024 0.0451 0.0347" />
      </geometry>
      <material name="Grey">
        <color rgba="0.5 0.5 0.5 1.0"/>
      </material>
    </visual>
    <inertial>
      <origin xyz="0 0 0" rpy="0 0 0" />
      <mass value="0.047" />
      <!-- Let's consider the servomotor homogeneous -->
      <inertia ixx="0.000269" ixy="0" ixz="0" iyy="0.00014834" iyz="0" izz="0.0002175" />
    </inertial>
  </link>
  <joint name="servomotor_15_joint" type="revolute">
    <origin xyz="0 0.011 0" rpy="0 0 3.141592653589793" />
    <parent link="servomotor_15" />
    <child link="joint_5" />
    <axis xyz="0 0 1" />
    <dynamics damping="0" friction="0" /> <!-- TODO -->
    <!-- Herkulex : 361.4°/s i.e. 6.308rad/s, 12kg.cm i.e. 1.18Nm -->
    <limit effort="1.18" velocity="6.308" lower="-0.46" upper="0.46" /> <!-- TODO -->
  </joint>
  <link name="joint_5">
    <collision>
      <origin xyz="0.02432 0 0" rpy="0 0 0" />
      <geometry>
        <box size="0.025 0.040 0.040" />
      </geometry>
    </collision>
    <visual>
      <origin xyz="0.02432 0 0" rpy="0 0 0" />
      <geometry>
        <mesh filename="package://hexapod_urdf/meshes/joint.stl" scale="0.001 0.001 0.001" />
      </geometry>
      <material name="Blue">
        <color rgba="0.0 0.0 1.0 1.0"/>
      </material>
    </visual>
    <inertial>
      <origin xyz="0.02432 0 0" rpy="0 0 0" />
      <mass value="0.011" />
      <inertia ixx="0.0000036847327983" ixy="0.0000000282538243" ixz="0.0000000324768551" iyy="0.0000040337912502" iyz="-0.0000000006925946" izz="0.0000040276641002" />
    </inertial>
  </link>
  <joint name="servomotor_16_joint" type="revolute">
    <origin xyz="0.049 0 0" rpy="1.5707963267948966 -0.7853981633974483 0" />
    <parent link="joint_5" />
    <child link="servomotor_16" />
    <axis xyz="0 0 1" />
    <dynamics damping="0" friction="0" /> <!-- TODO -->
    <!-- Herkulex : 361.4°/s i.e. 6.308rad/s, 12kg.cm i.e. 1.18Nm -->
    <limit effort="1.18" velocity="6.308" lower="-1.57" upper="1.57" /> <!-- TODO -->
  </joint>
  <link name="servomotor_16">
    <collision>
      <origin xyz="0 -0.0127 0" rpy="0 0 0" />
      <geometry>
        <box size="0.024 0.0451 0.0347" />
      </geometry>
    </collision>
    <visual>
      <origin xyz="0 -0.0127 0" rpy="0 0 0" />
      <geometry>
        <box size="0.024 0.0451 0.0347" />
      </geometry>
      <material name="Grey">
        <color rgba="0.5 0.5 0.5 1.0"/>
      </material>
    </visual>
    <inertial>
      <origin xyz="0 -0.0107 0" rpy="0 0 0" />
      <mass value="0.047" />
      <!-- Let's consider the servomotor homogeneous -->
      <inertia ixx="0.000269" ixy="0" ixz="0" iyy="0.00014834" iyz="0" izz="0.0002175" />
    </inertial>
  </link>
  <joint name="fixed_servomotor_16_servomotor_17" type="fixed">
    <origin xyz="0 -0.0495 0" rpy="0 0 3.141592653589793" />
    <parent link="servomotor_16" />
    <child link="servomotor_17" />
  </joint>
  <link name="servomotor_17">
    <collision>
      <origin xyz="0 -0.002 0" rpy="0 0 0" />
      <geometry>
        <box size="0.024 0.0451 0.0347" />
      </geometry>
    </collision>
    <visual>
      <origin xyz="0 -0.002 0" rpy="0 0 0" />
      <geometry>
        <box size="0.024 0.0451 0.0347" />
      </geometry>
      <material name="Grey">
        <color rgba="0.5 0.5 0.5 1.0"/>
      </material>
    </visual>
    <inertial>
      <origin xyz="0 0 0" rpy="0 0 0" />
      <mass value="0.047" />
      <!-- Let's consider the servomotor homogeneous -->
      <inertia ixx="0.000269" ixy="0" ixz="0" iyy="0.00014834" iyz="0" izz="0.0002175" />
    </inertial>
  </link>
  <joint name="servomotor_17_joint" type="revolute">
    <origin xyz="0 0.0107 0" rpy="0 0 -0.7853981633974483" />
    <parent link="servomotor_17" />
    <child link="foot_5" />
    <axis xyz="0 0 1" />
    <dynamics damping="0" friction="0" /> <!-- TODO -->
    <!-- Herkulex : 361.4°/s i.e. 6.308rad/s, 12kg.cm i.e. 1.18Nm -->
    <limit effort="1.18" velocity="6.308" lower="-1.57" upper="1.57" /> <!-- TODO -->
  </joint>
  <link name="foot_5">
    <collision>
      <origin xyz="0 0.0406 0" rpy="1.5707963267948966 0 0" />
      <geometry>
        <box size="0.024 0.040 0.08" />
      </geometry>
    </collision>
    <visual>
      <origin xyz="0 0.031 0" rpy="1.5707963267948966 0 0" />
      <geometry>
        <mesh filename="package://hexapod_urdf/meshes/foot.stl" scale="0.001 0.001 0.001" />
      </geometry>
      <material name="Blue">
        <color rgba="0.0 0.0 1.0 1.0"/>
      </material>
    </visual>
    <inertial>
      <origin xyz="0 0.031 0" rpy="1.5707963267948966 0 0" />
      <mass value="0.0105" />
      <inertia ixx="0.0000056249300217" ixy="-0.0000000007514029" ixz="0.0000000005912555" iyy="0.0000045683501941" iyz="0.0000000202704742" izz="0.0000017085021793" />
    </inertial>
  </link>
  <joint name="fixed_foot_5_endcap_5" type="fixed">
    <origin xyz="0 0.088 0" rpy="0 0 0" />
    <parent link="foot_5" />
    <child link="endcap_5" />
  </joint>
  <link name="endcap_5">
    <collision>
      <origin xyz="0 0 0" rpy="0 0 0" />
      <geometry>
        <sphere radius="0.005" />
      </geometry>
    </collision>
    <visual>
      <origin xyz="0 0 0" rpy="0 0 0" />
      <geometry>
        <sphere radius="0.005" />
      </geometry>
      <material name="BlackRubber">
        <color rgba="0.0 0.0 0.0 1.0"/>
      </material>
    </visual>
    <inertial>
      <origin xyz="0 0 0" rpy="0 0 0" />
      <mass value="0.0005" />
      <!-- endcap has a negligeable inertia -->
      <inertia ixx="0.0" ixy="0.0" ixz="0.0" iyy="0.0" iyz="0.0" izz="0.0" />
    </inertial>
    <contact>
      <friction_anchor />
      <lateral_friction value="0.7" />
      <rolling_friction value="0.7" />
      <spinning_friction value="0.1" />
      <stiffness value="10000" />
      <damping value="1000" />
    </contact>
  </link>
  
</robot>
